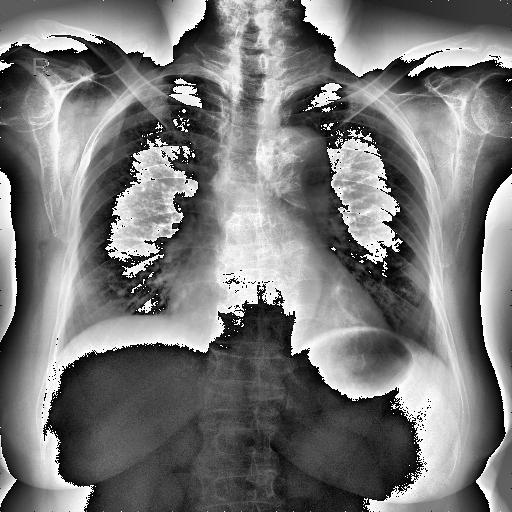0- Aortic enlargement: (266, 128, 330, 200), (260, 125, 330, 190), (266, 124, 330, 194)
11- Pleural thickening: (286, 80, 322, 102)
3- Cardiomegaly: (169, 282, 392, 346), (168, 279, 388, 342), (171, 286, 391, 348)
